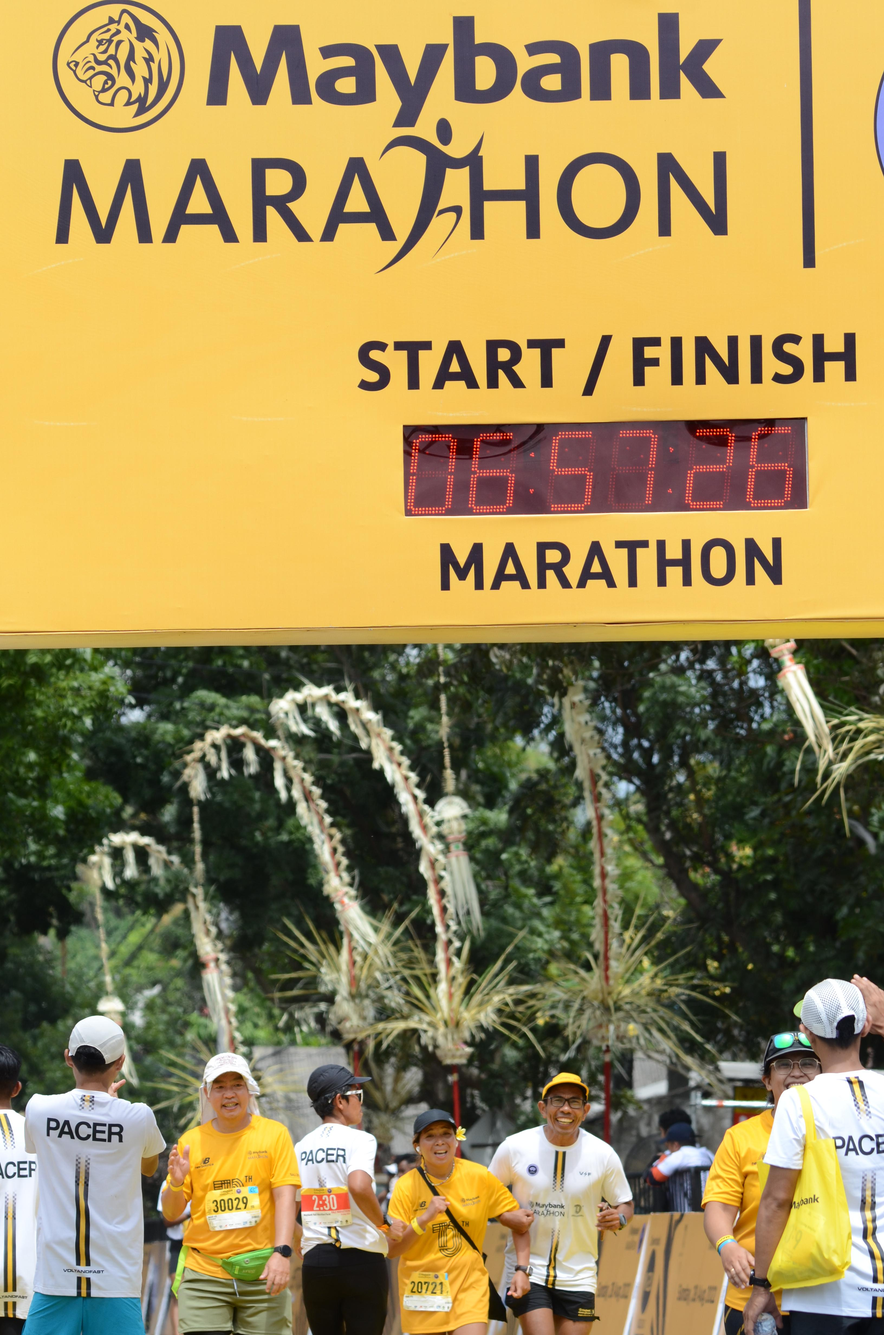bib: (206, 1185, 261, 1229), (300, 1187, 352, 1227), (404, 1271, 453, 1311)
